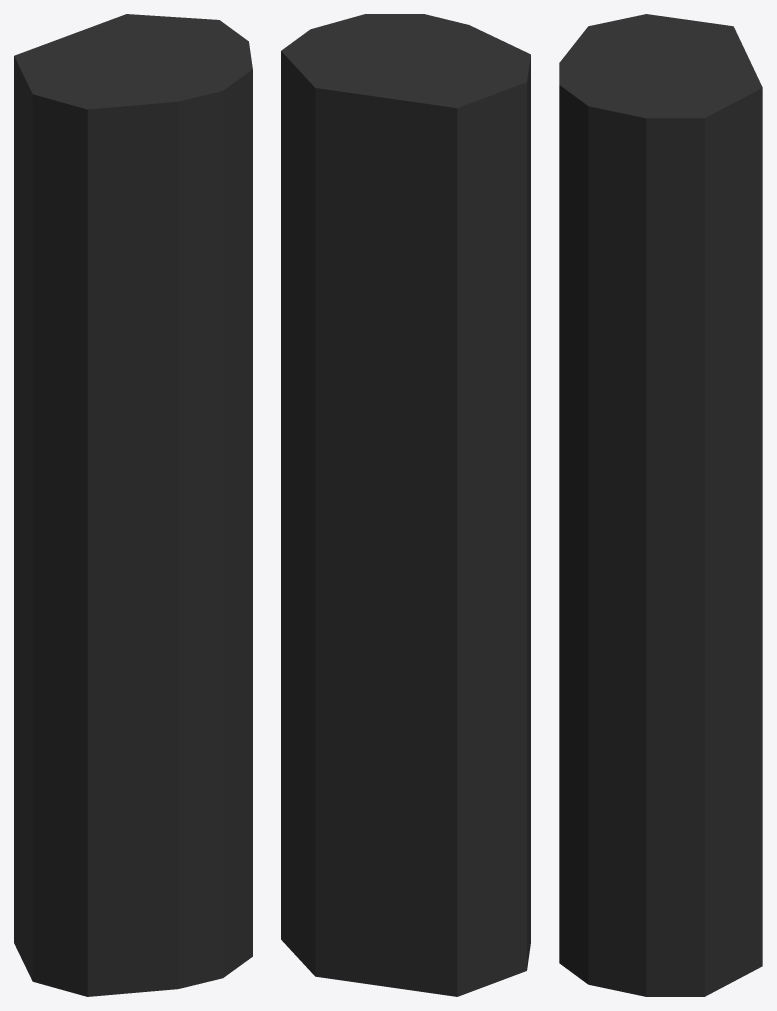
Rendered from Rock2.fbx.
The picture shows the model from 3 angles, left to right: view 1: azimuth 30°, elevation 25°; view 2: azimuth 150°, elevation 25°; view 3: azimuth 270°, elevation 25°; orthographic projection.
Parts seen in each view (by area): view 1: Rock2; view 2: Rock2; view 3: Rock2.
Part boxes in pixels (<box>): Rock2: <box>14,14,252,996</box>; Rock2: <box>281,14,530,996</box>; Rock2: <box>559,14,762,996</box>.
Bounding box in the file's own units: 510 × 2000 × 420.
